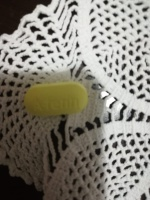Aferin: (24, 82, 89, 117)
